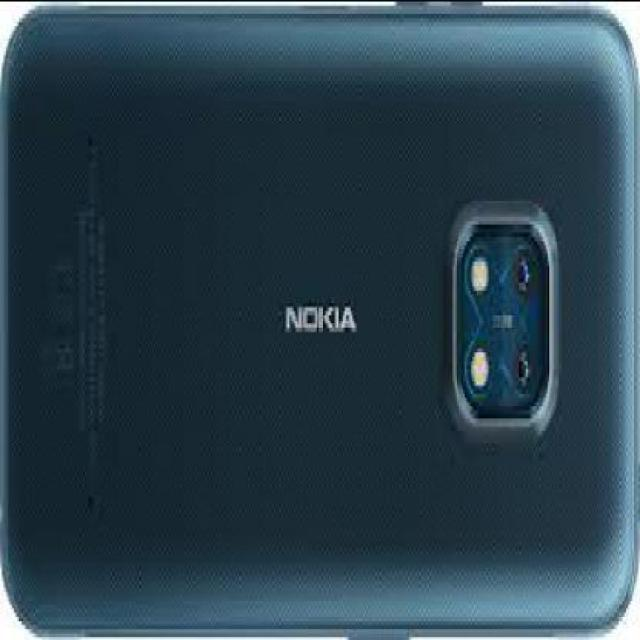mobile: (1, 3, 638, 639)
